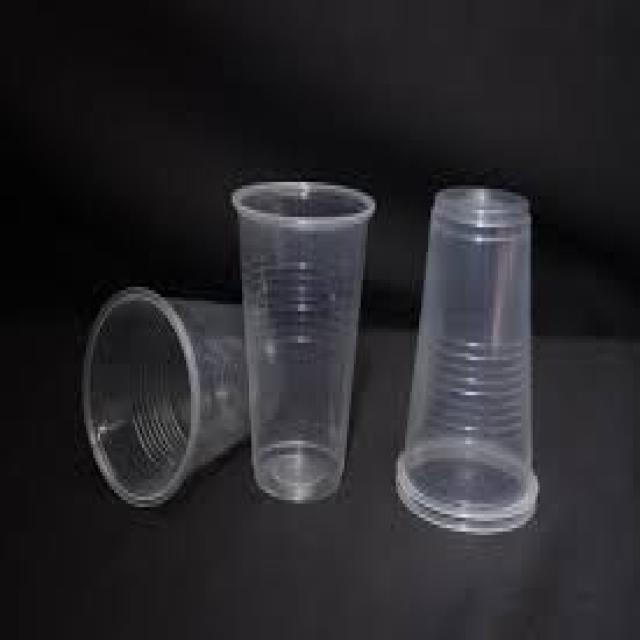plastic: (396, 188, 539, 533), (233, 182, 375, 501), (83, 287, 249, 506)
